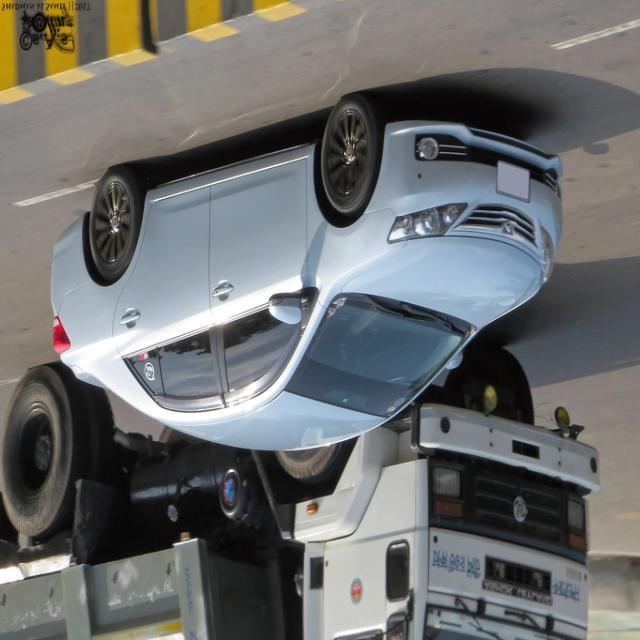silver: (51, 95, 566, 448)
